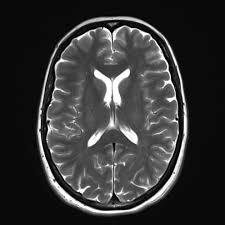Normal_Brain: (1, 5, 225, 225)
